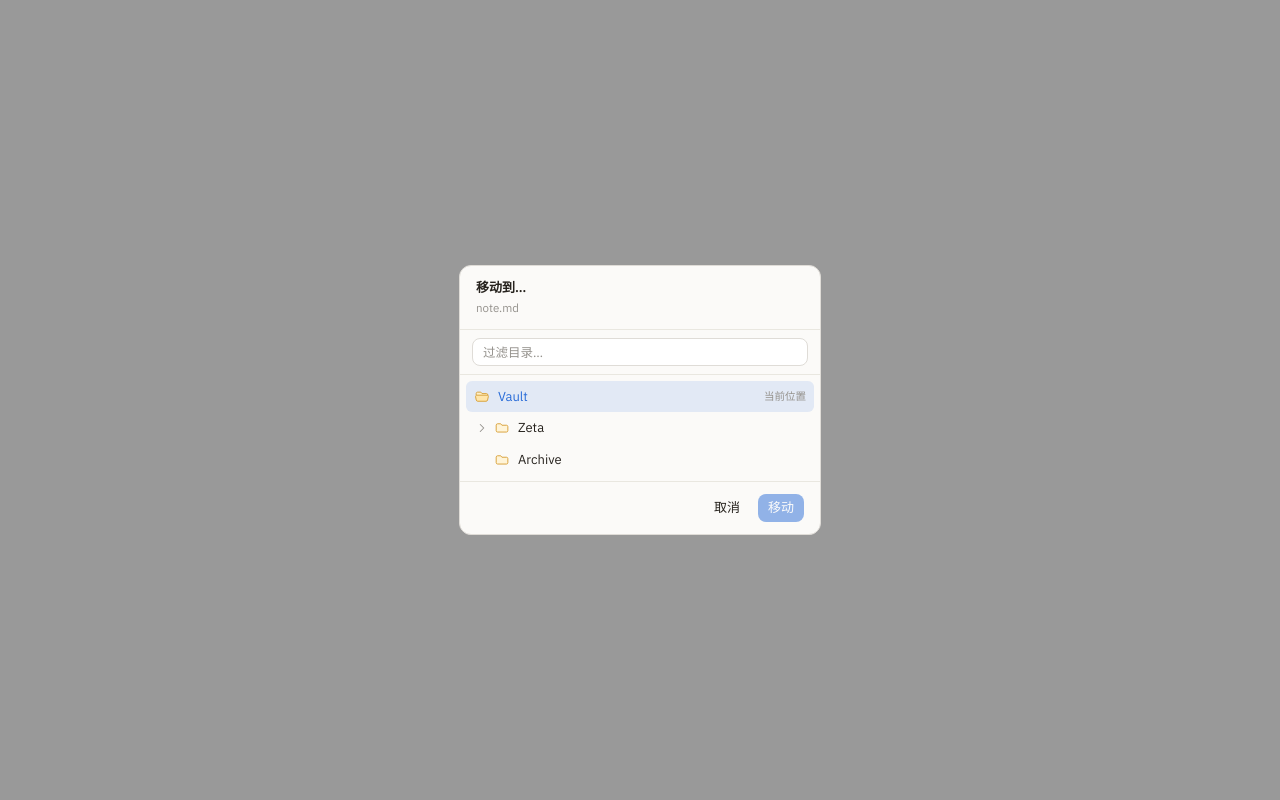
Test: MoveDialog collapsible tree › records the accepted ancestor-chain edge case: a deep file-name match keeps its non-matching ancestor folders visible
Type "secret" into the field with placeholder "过滤目录…" at (640, 352), box top-left (472, 338), bottom-right (808, 366)
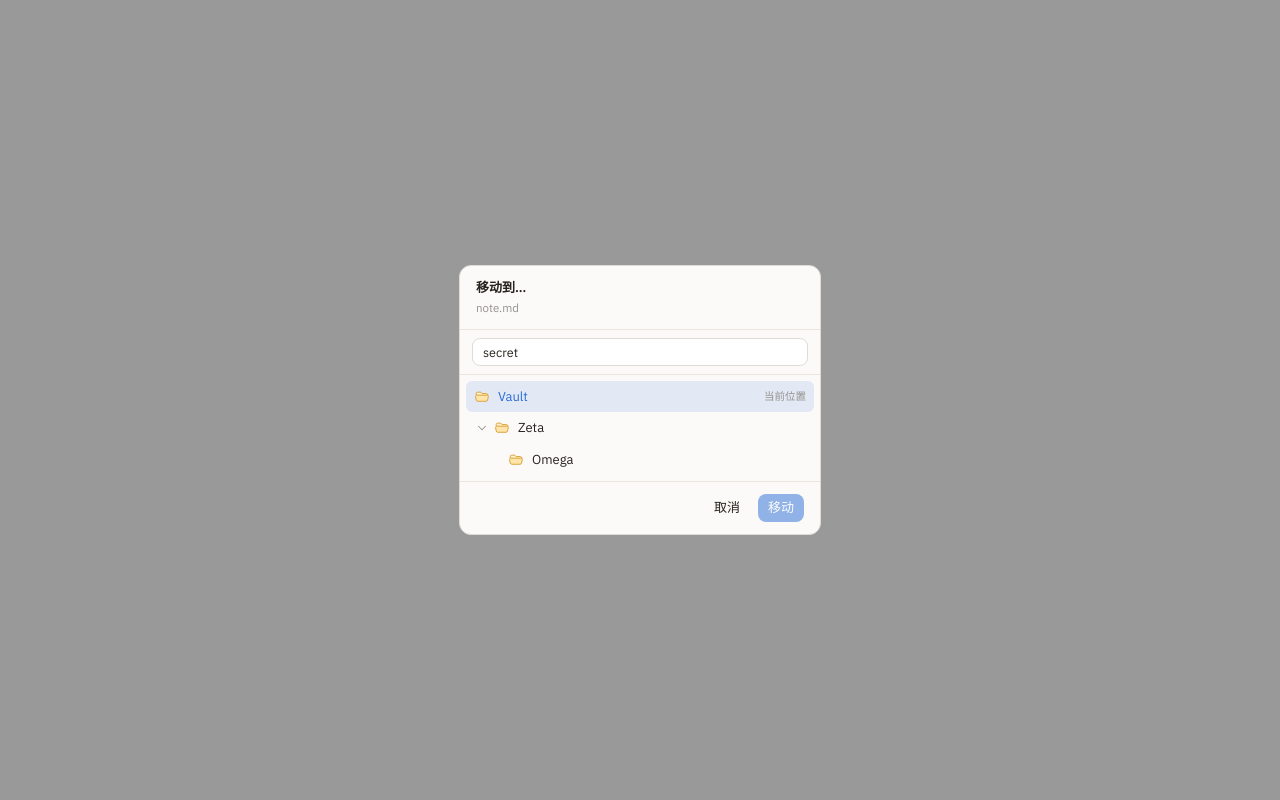
Expected: the text "Zeta" is shown, top-left (518, 418), bottom-right (544, 438)
Expected: the text "Omega" is shown, top-left (532, 450), bottom-right (574, 469)
Expected: the button "Archive" is gone
